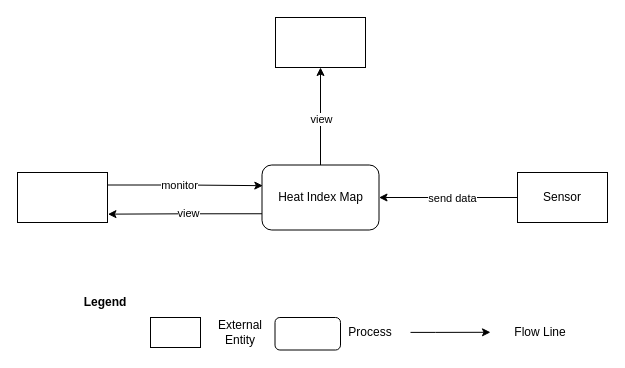
This 625x368 diagram has some shape labels left out. The centre of each missing label's shape, as x and y in pixels:
"Admin" belongs at point 62,197.
"School Community" belongs at point 320,42.
